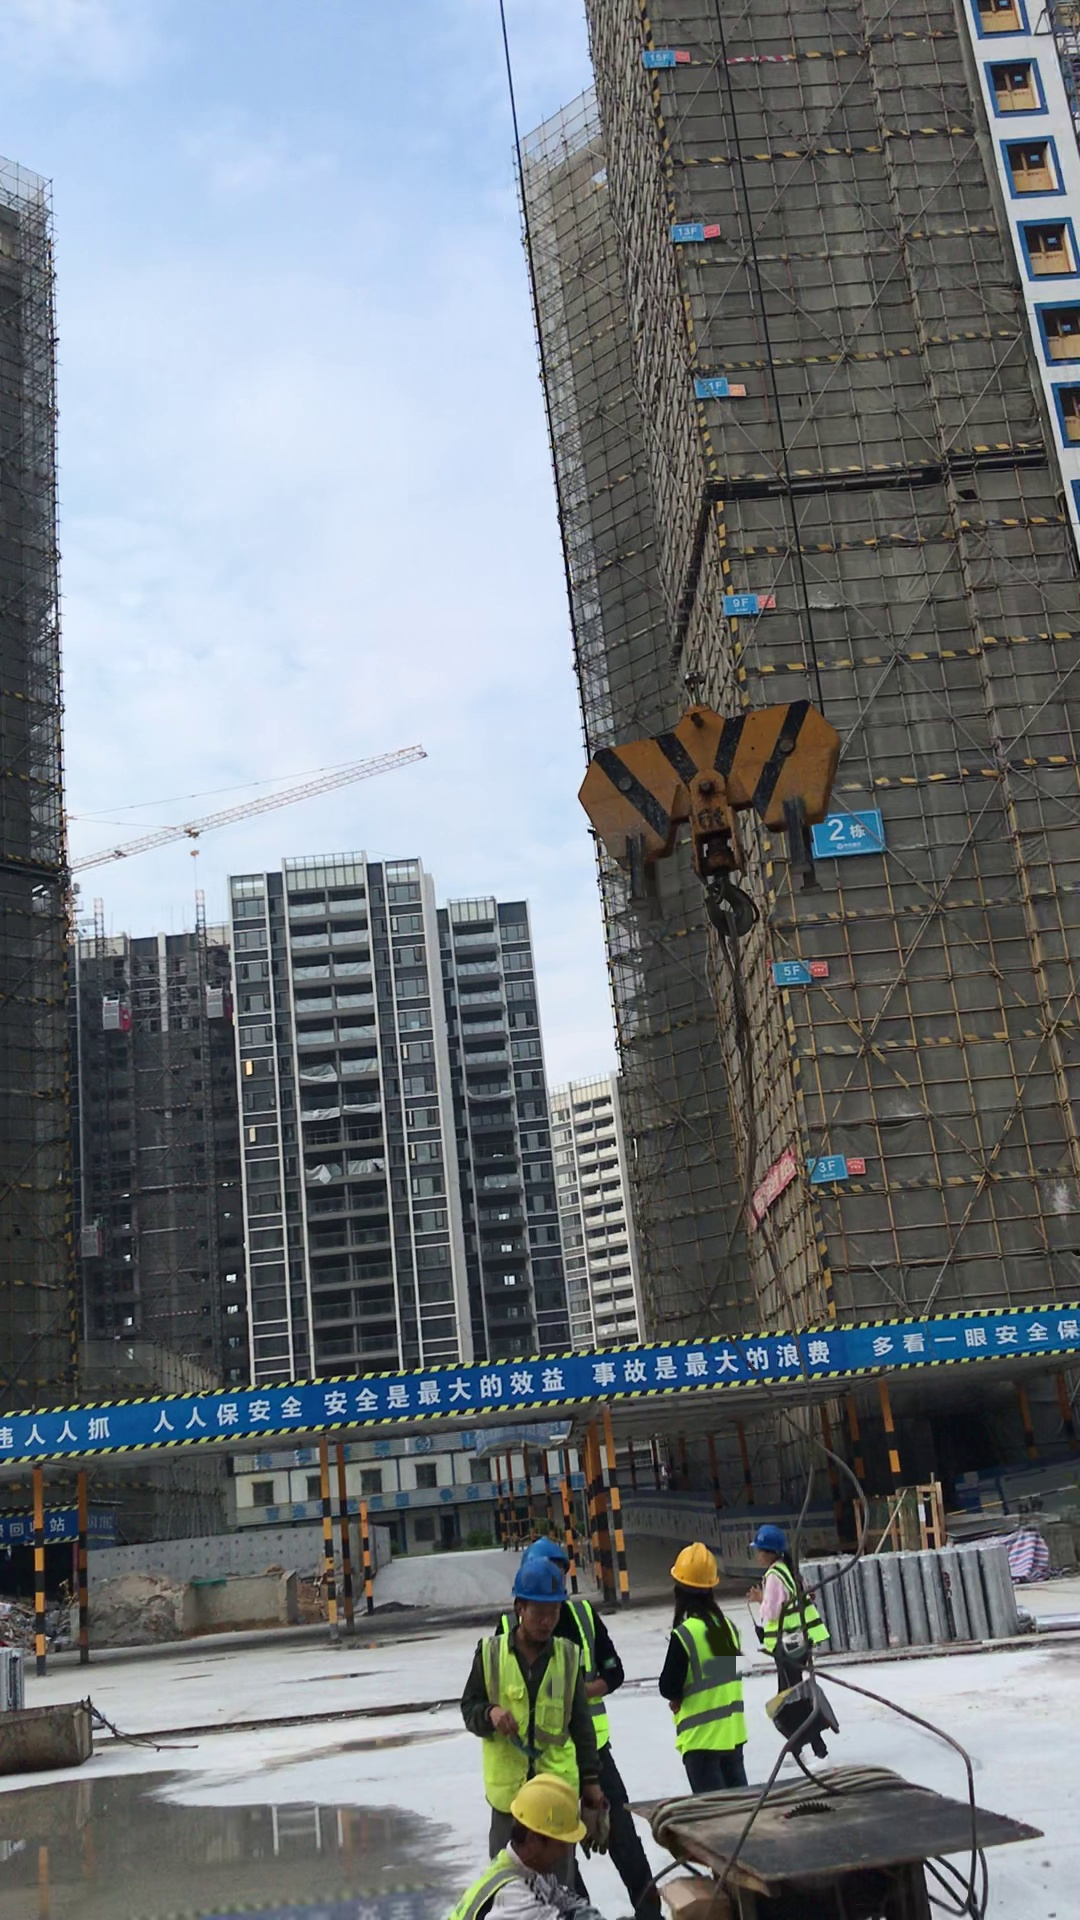helmet: (511, 1771, 589, 1844), (514, 1558, 568, 1603), (669, 1541, 720, 1587), (519, 1537, 569, 1568), (751, 1529, 784, 1552)
person: (459, 1533, 667, 1908), (741, 1527, 851, 1768), (651, 1539, 753, 1788), (437, 1772, 599, 1920)
vest: (477, 1632, 584, 1812), (674, 1617, 743, 1753), (756, 1561, 829, 1648)
